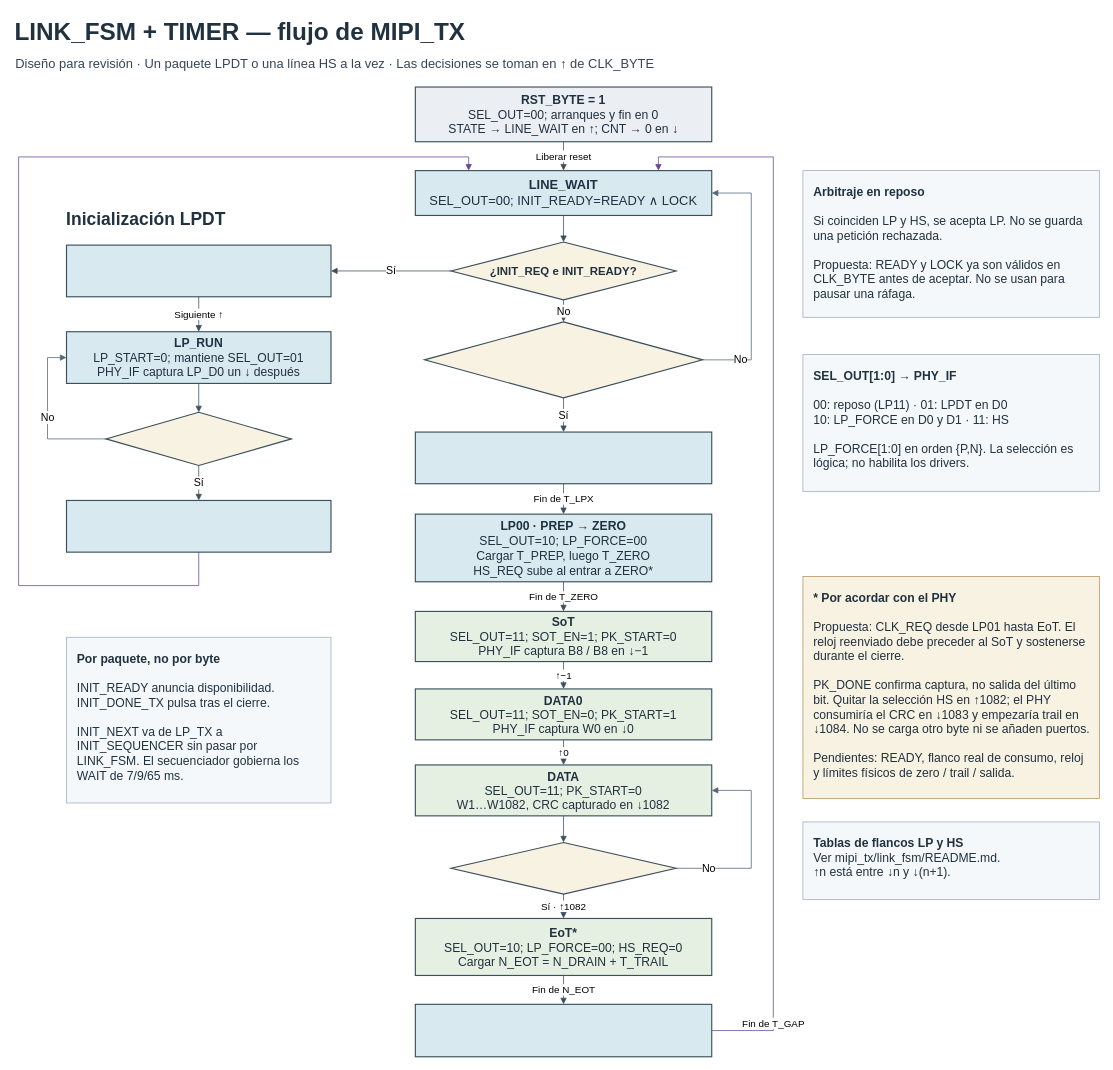
The diagram is 1113 pixels wide and 1070 high, and some of its shapes have lost their labels. Here are the shapes that lost their labels. From the top down, the centre of each, then its label:
(x=198, y=270): LP_BEGIN SEL_OUT=01; LP_START=1; INIT_READY=0 LP_TX lo lee en el ↑ siguiente
(x=563, y=359): ¿VID_REQ y VID_LINE_RDY y READY y LOCK?
(x=198, y=438): ¿LP_DONE = 1?
(x=563, y=457): LP01 SEL_OUT=10; LP_FORCE=01; CLK_REQ=1* Cargar T_LPX
(x=198, y=526): LP_ACK SEL_OUT=00; INIT_DONE_TX=1 El secuenciador lo lee en el ↑ siguiente
(x=563, y=868): ¿PK_DONE = 1?
(x=563, y=1030): LP11 SEL_OUT=00; CLK_REQ=0* Cargar T_GAP: solo el resto del período
